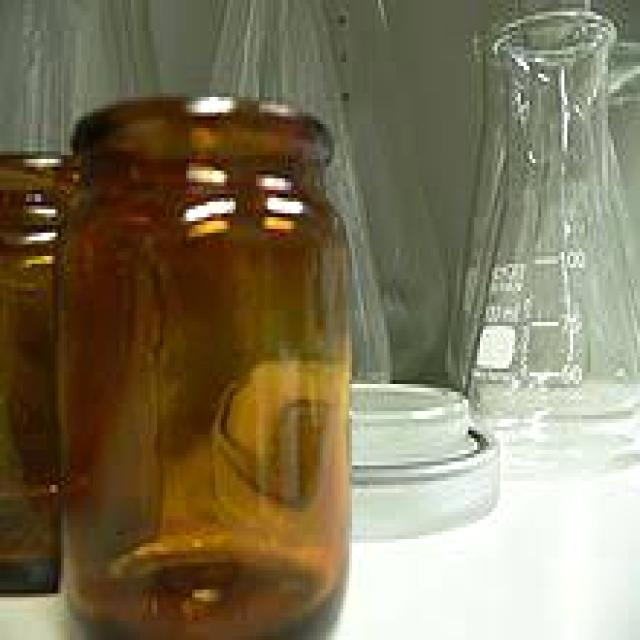Glass: (59, 94, 354, 640), (0, 141, 68, 598)
